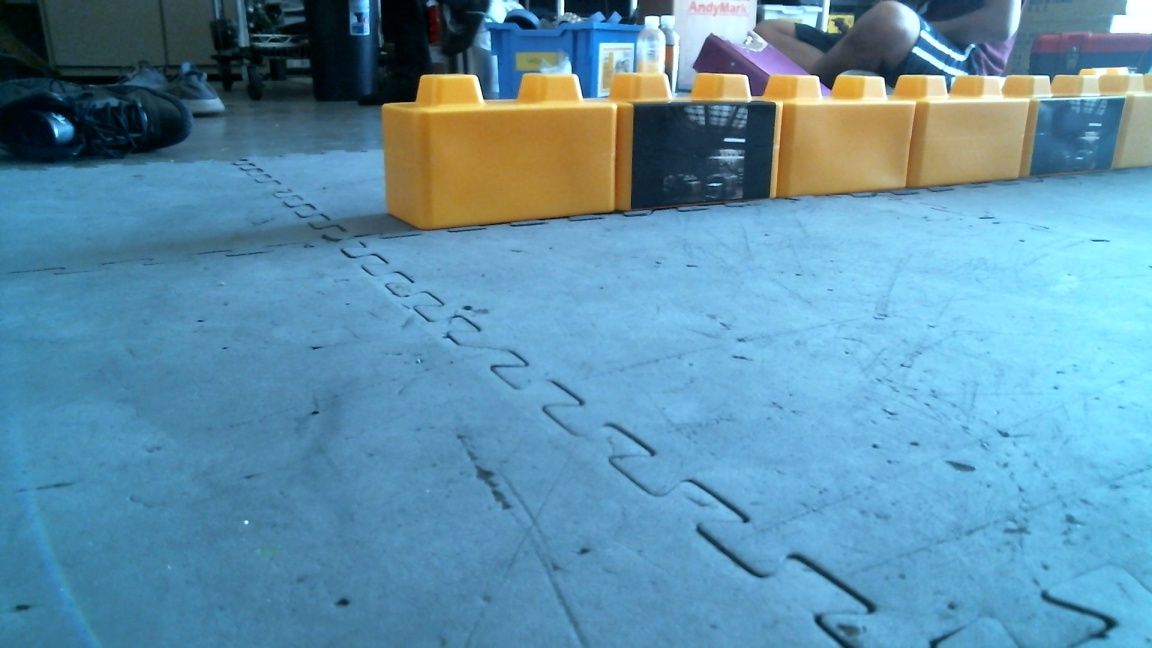center: (375, 64, 904, 228)
left: (615, 67, 1028, 219)
right: (777, 70, 1125, 200)
